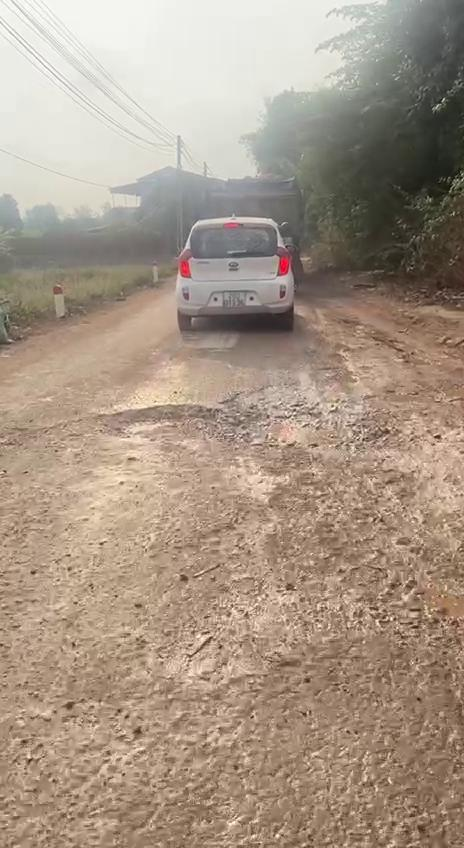pothole: (0, 402, 212, 452), (382, 566, 464, 695), (214, 400, 386, 458)
